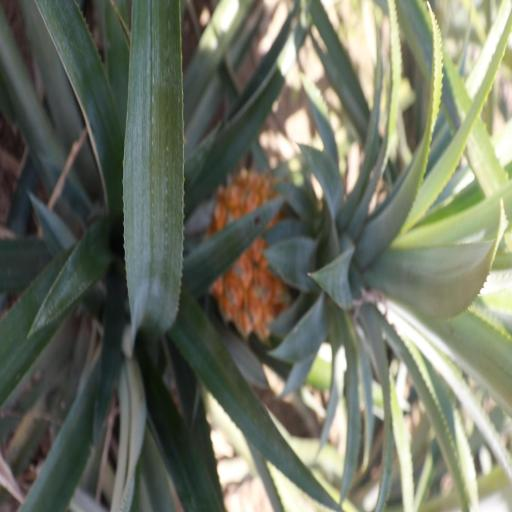Pineapple - v8 v1: (214, 162, 502, 349)
